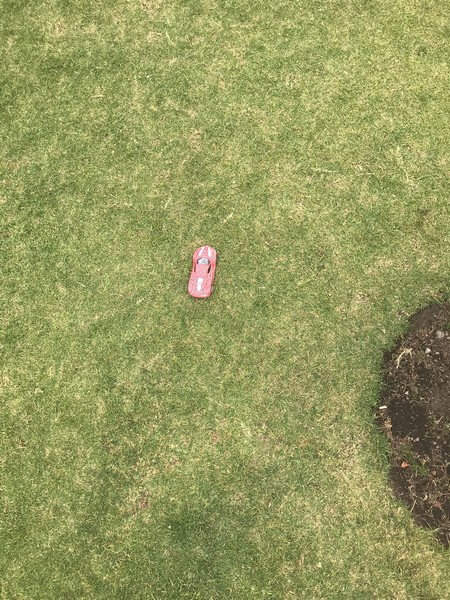RC: (186, 245, 218, 301)
